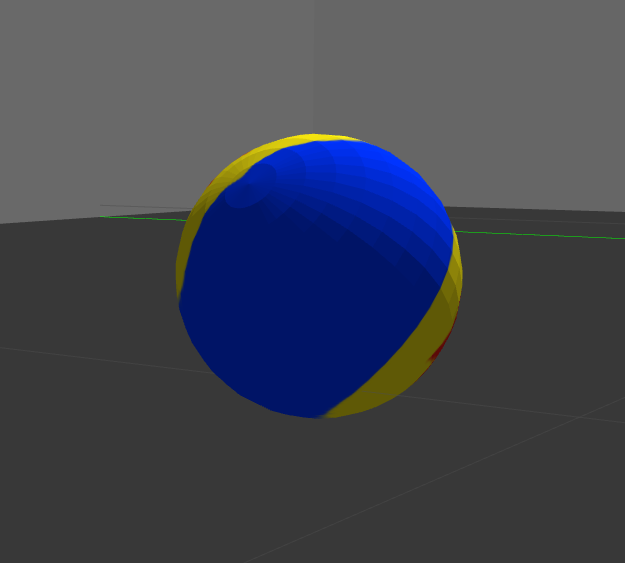toy story ball: (176, 135, 463, 417)
